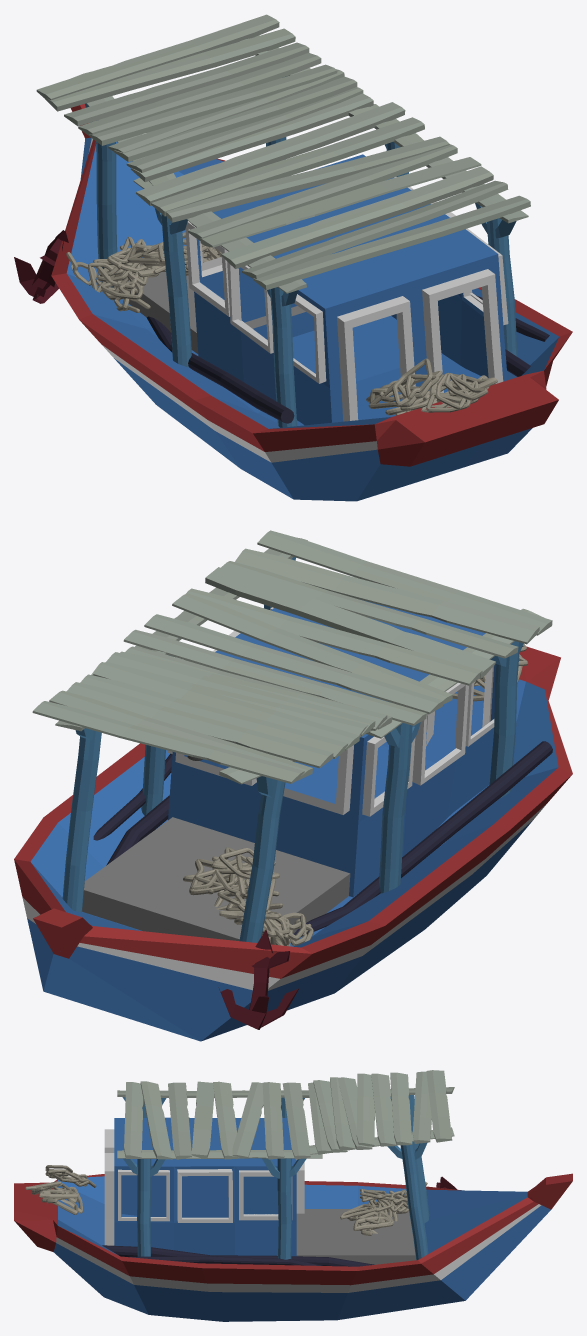
File: ghe_bien_-_vietnam_sea_boat.glb
3 renders of one model, top to bottom at view 1: azimuth 30°, elevation 25°; view 2: azimuth 150°, elevation 25°; view 3: azimuth 270°, elevation 25°, orthographic. The views are drawn at different scales.
Parts seen in each view (by area): view 1: Vert, Cube.004, Cube.009, Cube.008, Cube.002, Cylinder.001, Cube.007, Cube.017, Cube.018, Cube.006, Cube.003, Cube.005 (+19 smaller); view 2: Vert, Cylinder.002, Cube.003, Cube.005, Cube.008, Cylinder, Cube.002, Cube.007, Cube.006, Cube.009, Cube.018, Cube.016 (+19 smaller); view 3: Vert, Cylinder.002, Cylinder, Cylinder.001, Cube.003, Cube.004, Cube.008, Cube.009, Cylinder.003, Cube.002, Cube.005, Cube.007 (+19 smaller).
Part boxes in pixels (x1,y1,x2,y2): Vert: (51, 104, 572, 501); Cube.004: (221, 166, 493, 268); Cube.009: (136, 102, 405, 205); Cube.008: (151, 117, 424, 216); Cube.002: (253, 195, 530, 290); Cylinder.001: (267, 202, 517, 427); Cube.007: (165, 136, 449, 222); Cube.017: (45, 28, 295, 111); Cube.018: (36, 14, 279, 100); Cube.006: (188, 144, 457, 240); Cube.003: (242, 180, 508, 278); Cube.005: (200, 157, 481, 247); Vert: (14, 601, 572, 1041); Cylinder.002: (62, 728, 285, 942); Cube.003: (235, 548, 539, 644); Cube.005: (205, 567, 495, 678); Cube.008: (144, 614, 443, 714); Cylinder: (141, 655, 420, 893); Cube.002: (257, 530, 552, 635); Cube.007: (172, 593, 452, 704); Cube.006: (186, 588, 482, 685); Cube.009: (123, 629, 426, 725); Cube.018: (32, 701, 304, 783); Cube.016: (66, 682, 333, 768); Vert: (14, 1117, 572, 1321); Cylinder.002: (387, 1095, 429, 1260); Cylinder: (262, 1097, 306, 1259); Cylinder.001: (122, 1097, 166, 1256); Cube.003: (140, 1081, 172, 1159); Cube.004: (168, 1082, 191, 1159); Cube.008: (262, 1082, 284, 1159); Cube.009: (282, 1082, 310, 1159); Cylinder.003: (102, 1245, 374, 1266); Cube.002: (124, 1082, 143, 1158); Cube.005: (191, 1081, 214, 1158); Cube.007: (232, 1082, 263, 1158).
Bounding box in the file's own units: 17.26 × 14.54 × 38.78.
